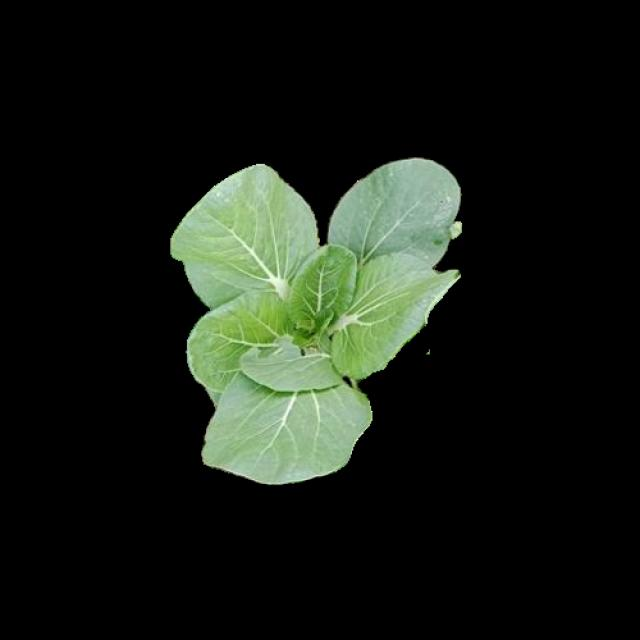not-mature: (173, 159, 463, 480)
unhealthy: (326, 161, 458, 270), (241, 336, 344, 391)
